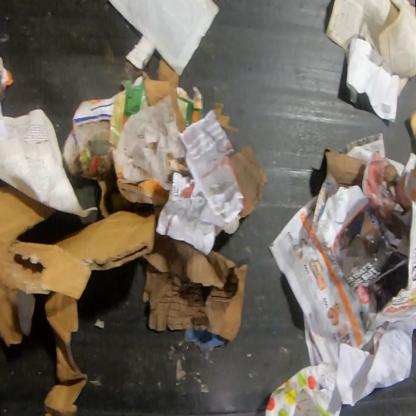cardboard: (0, 183, 154, 413), (142, 233, 250, 342), (229, 142, 269, 219), (141, 71, 184, 133), (325, 149, 367, 190), (174, 87, 204, 130), (158, 54, 180, 86), (408, 106, 415, 142)
